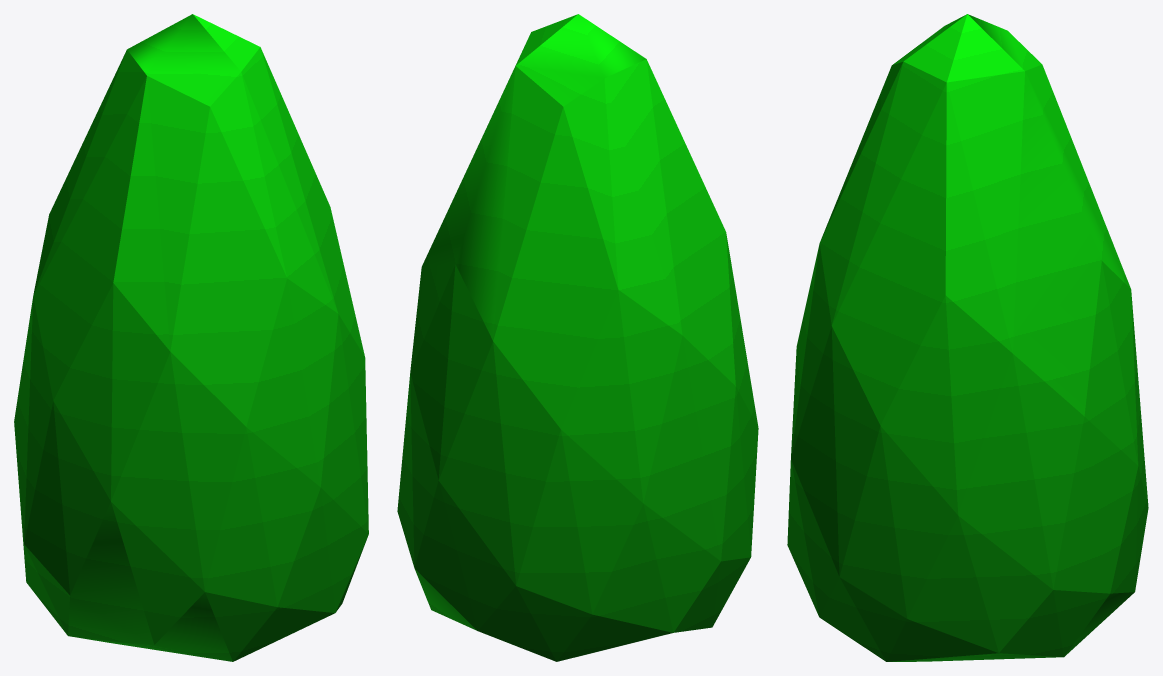
Rendered from Prefab_Foliage_Tree_Pine_Leaves_A.glb.
The picture shows the model from 3 angles, left to right: view 1: azimuth 30°, elevation 25°; view 2: azimuth 150°, elevation 25°; view 3: azimuth 270°, elevation 25°; orthographic projection.
Visible parts, largest first — view 1: PineTree_B_Trunk.003; view 2: PineTree_B_Trunk.003; view 3: PineTree_B_Trunk.003.
Part boxes in pixels (box(x1,y1,x2,y2)): PineTree_B_Trunk.003: box(14, 14, 368, 661); PineTree_B_Trunk.003: box(397, 14, 758, 661); PineTree_B_Trunk.003: box(787, 14, 1148, 661).
Bounding box in the file's own units: 7.11 × 12.95 × 7.04.
1 material, 1 textured.
